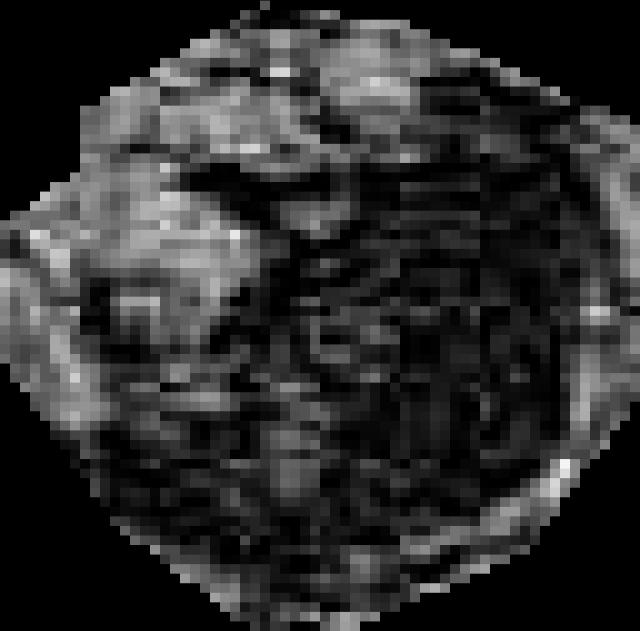tumor_good_chance: (0, 1, 640, 631)
